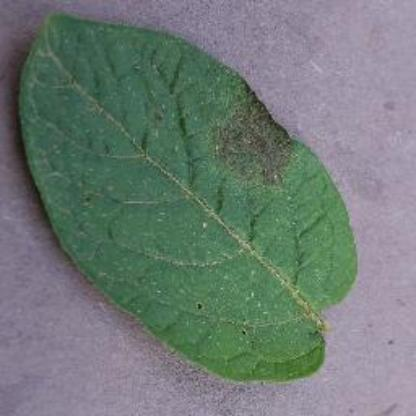Late-Blight: (19, 7, 351, 386)
